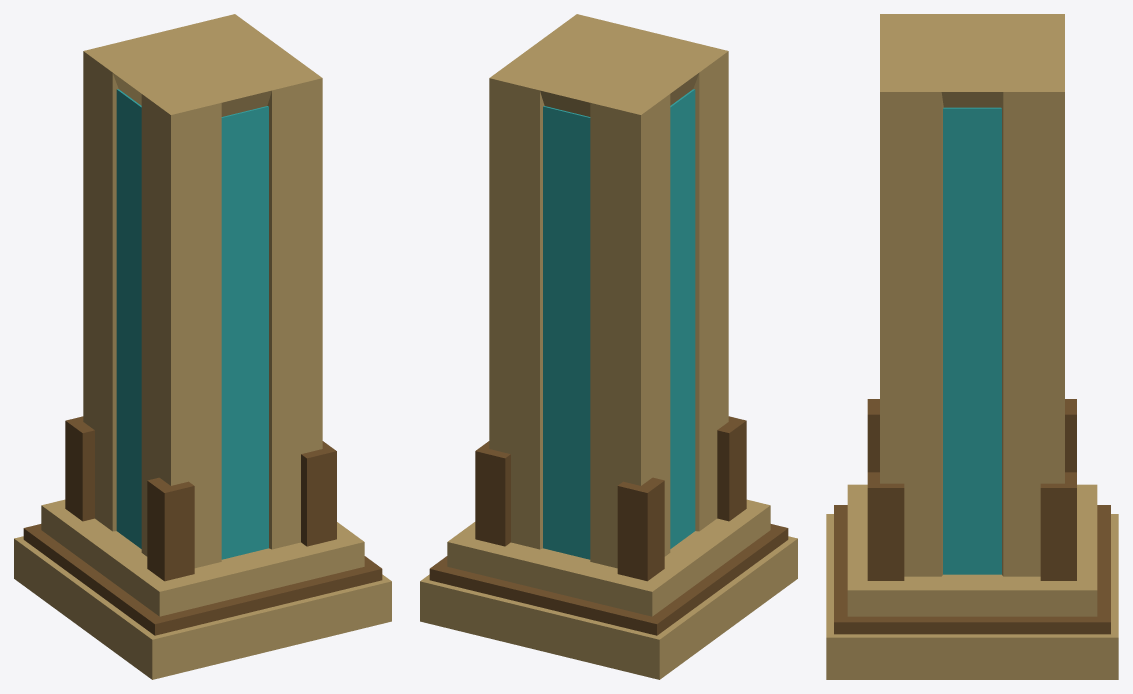
The model's file is pilar test.fbx.
The picture shows the model from 3 angles, left to right: view 1: azimuth 30°, elevation 25°; view 2: azimuth 150°, elevation 25°; view 3: azimuth 270°, elevation 25°; orthographic projection. The views are drawn at different scales.
Parts seen in each view (by area): view 1: pCube12; view 2: pCube12; view 3: pCube12.
Boxes of the visible parts, x1,y1,x2,y2 form: pCube12: (14,14,391,679); pCube12: (420,14,797,679); pCube12: (826,14,1118,679).
Bounding box in the file's own units: 2.44 × 5.2 × 2.44.
